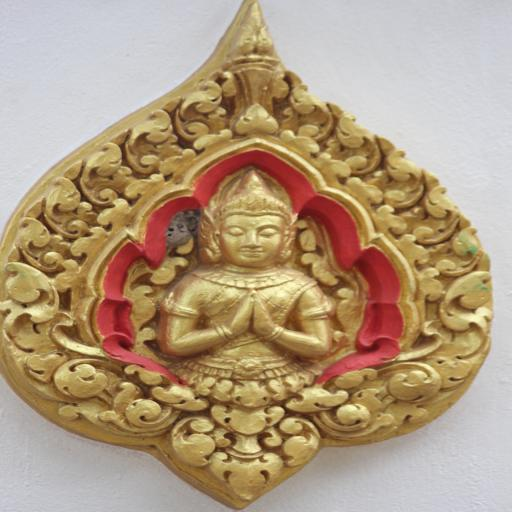la: (174, 400, 314, 492), (321, 365, 439, 435), (59, 352, 167, 428), (418, 265, 502, 343), (174, 75, 252, 146), (273, 76, 335, 150), (363, 133, 424, 208), (43, 172, 103, 236), (76, 143, 142, 200), (127, 106, 180, 173), (2, 261, 58, 324), (403, 182, 453, 244), (332, 108, 378, 172), (15, 215, 67, 267), (423, 225, 481, 269)
than: (162, 167, 350, 400)
